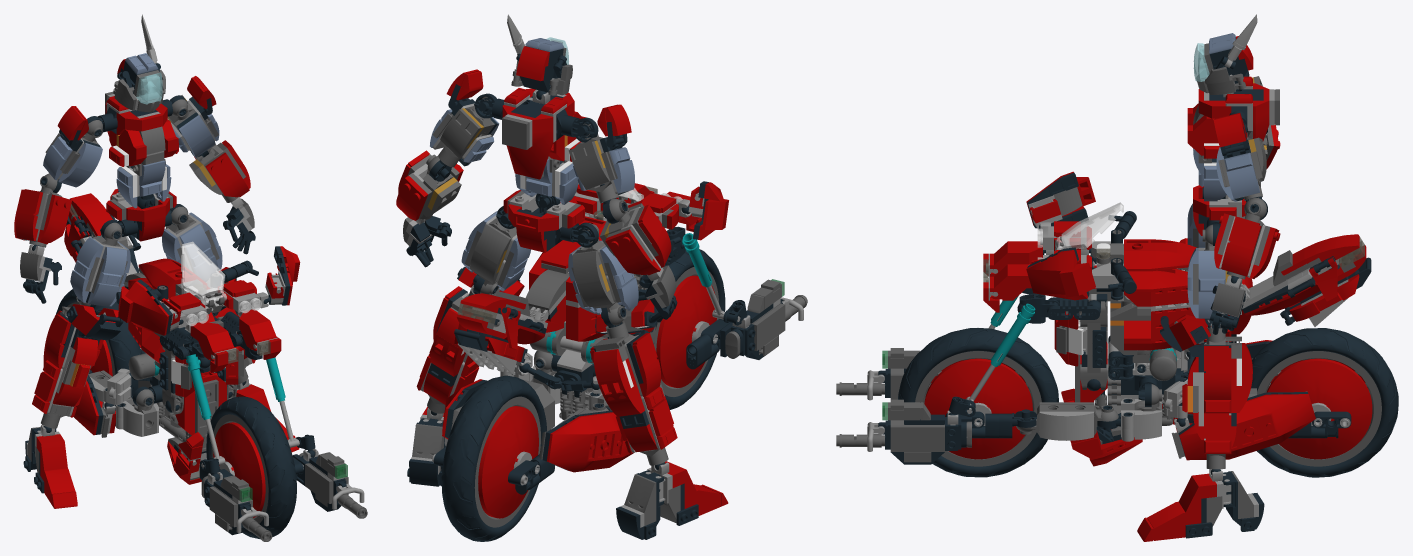
The model's file is vrs-077f-intruder-gate-ride.dae.
3 renders of one model, left to right at view 1: azimuth 30°, elevation 25°; view 2: azimuth 150°, elevation 25°; view 3: azimuth 270°, elevation 25°, orthographic. The views are drawn at different scales.
Bounding box in the file's own units: 462 × 828 × 764.
